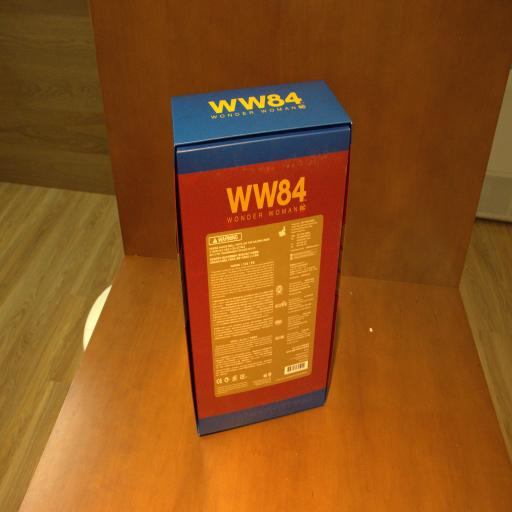WonderWoman: (171, 78, 353, 436)
